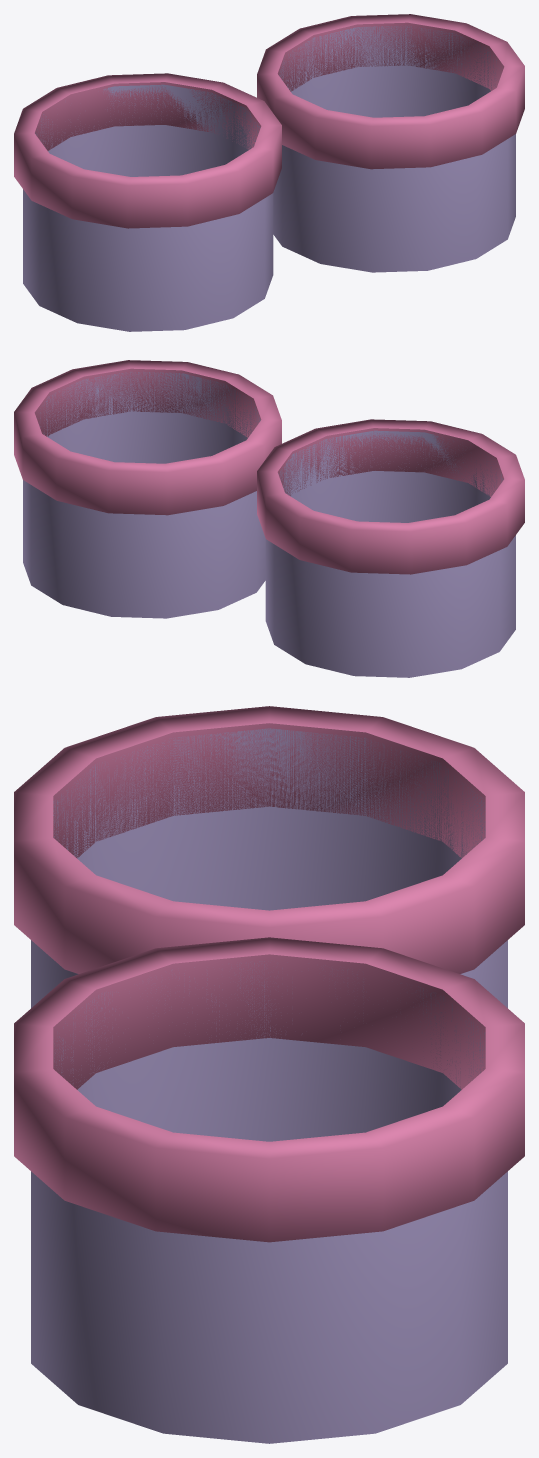
Rendered from back_bow_socks.glb.
3 views of the same model, one above another, from view 1: azimuth 30°, elevation 25°; view 2: azimuth 150°, elevation 25°; view 3: azimuth 270°, elevation 25° (orthographic). The views are drawn at different scales.
Visible parts, largest first — view 1: back_bow_socks_LegL, back_bow_socks_LegR; view 2: back_bow_socks_LegL, back_bow_socks_LegR; view 3: back_bow_socks_LegR, back_bow_socks_LegL.
Boxes of the visible parts, bbox=[...] form: back_bow_socks_LegL: bbox=[14, 73, 281, 331]; back_bow_socks_LegR: bbox=[257, 14, 524, 272]; back_bow_socks_LegL: bbox=[257, 419, 524, 677]; back_bow_socks_LegR: bbox=[14, 360, 281, 618]; back_bow_socks_LegR: bbox=[14, 937, 524, 1443]; back_bow_socks_LegL: bbox=[14, 706, 524, 1007].
Size of the model in its own units: 0.372 by 0.112 by 0.1774.
